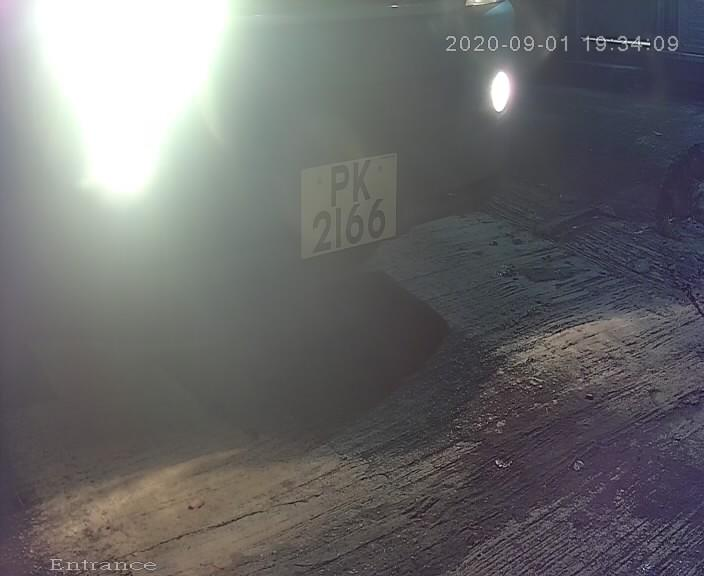License Plate: (290, 147, 403, 276)
